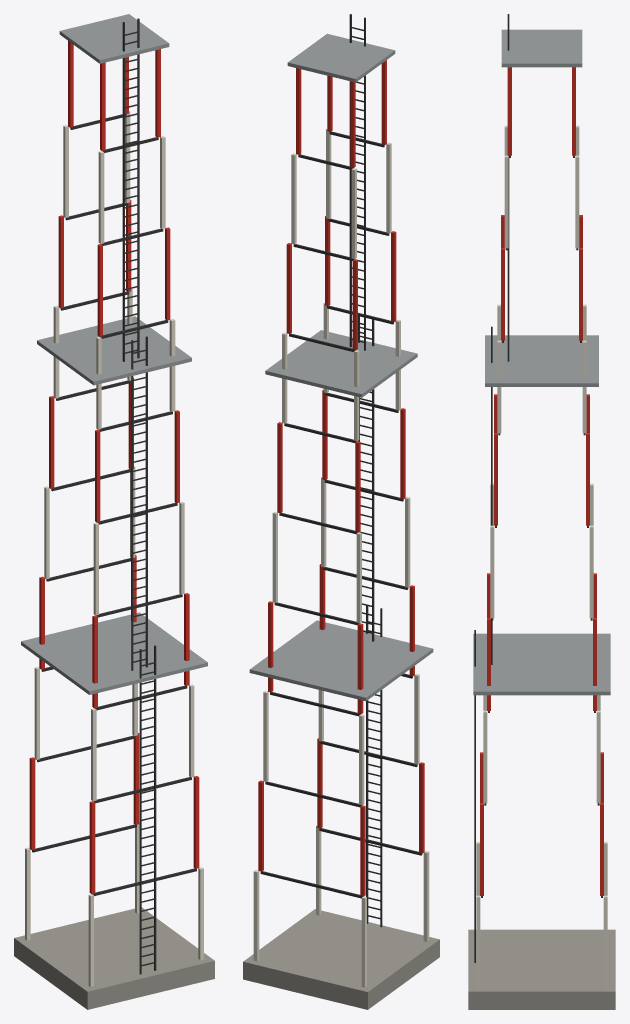
The model's file is antena_a.glb.
The picture shows the model from 3 angles, left to right: view 1: azimuth 30°, elevation 25°; view 2: azimuth 150°, elevation 25°; view 3: azimuth 270°, elevation 25°; orthographic projection. The views are drawn at different scales.
Parts seen in each view (by area): view 1: antena_a; view 2: antena_a; view 3: antena_a.
Boxes of the visible parts, bbox=[...] form: antena_a: bbox=[14, 14, 214, 1009]; antena_a: bbox=[243, 14, 439, 1009]; antena_a: bbox=[468, 14, 615, 1009].
Size of the model in its own units: 4.4 by 31.67 by 4.4.
